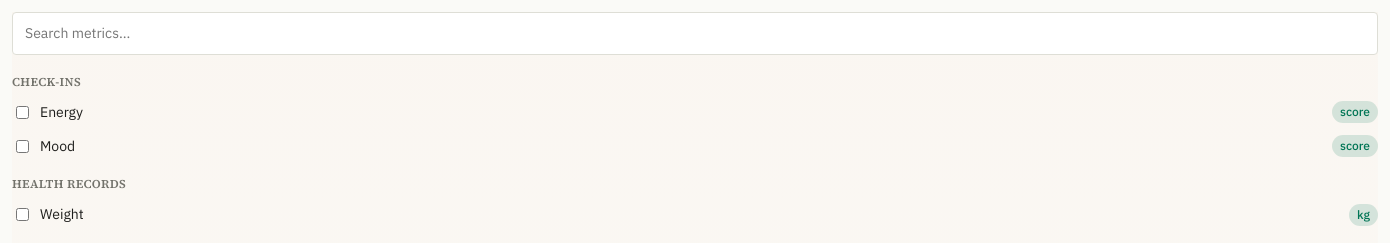
Test: MetricPicker › filters metrics by search
Expected: the text "Energy" is shown, [40, 103, 83, 121]
Type "weight" into the field labelled "Search metrics" at (695, 34), box [12, 12, 1378, 55]
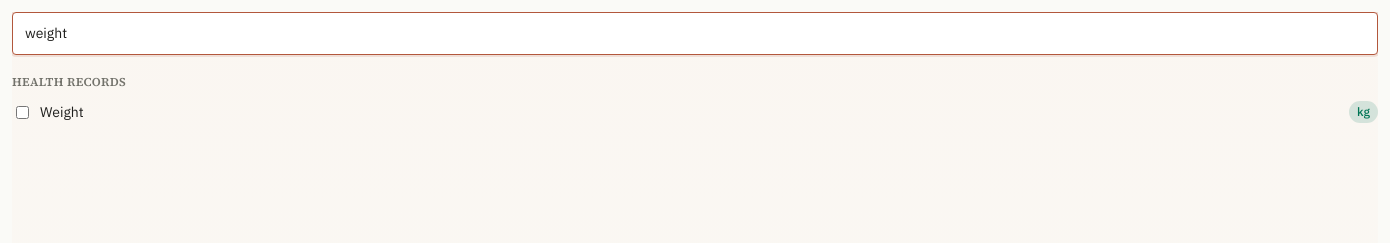
Expected: the text "Weight" is shown, [40, 103, 84, 121]
Expected: the text "Energy" is gone
Expected: the text "Mood" is gone
